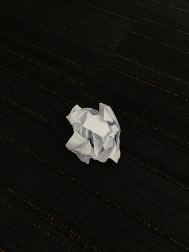paper_brown: (60, 98, 130, 166)
